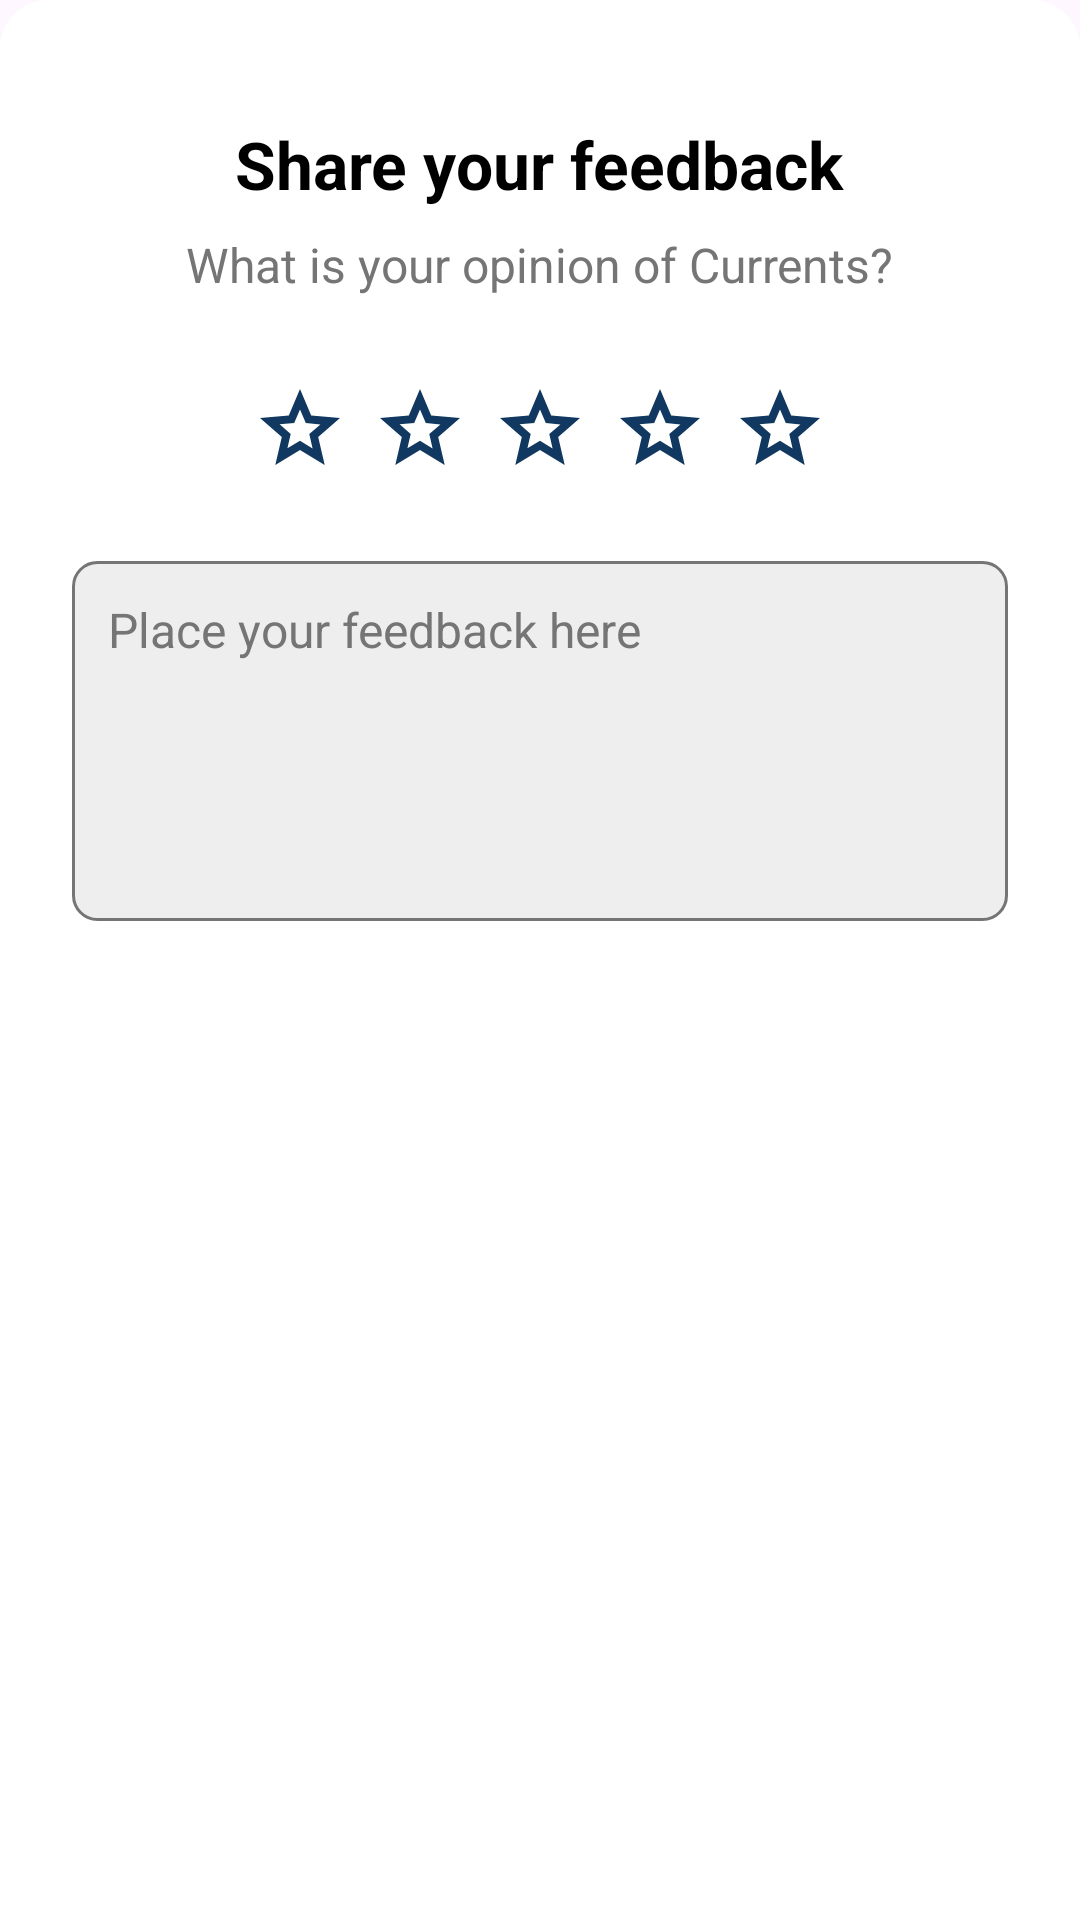

Named icons in this screenshot (1080 x 1920) and their bounding boxes, [x1, y1, x2, y2]:
star: [260, 389, 340, 465], [380, 389, 460, 465], [500, 389, 580, 465], [620, 389, 700, 465], [740, 389, 820, 465]
